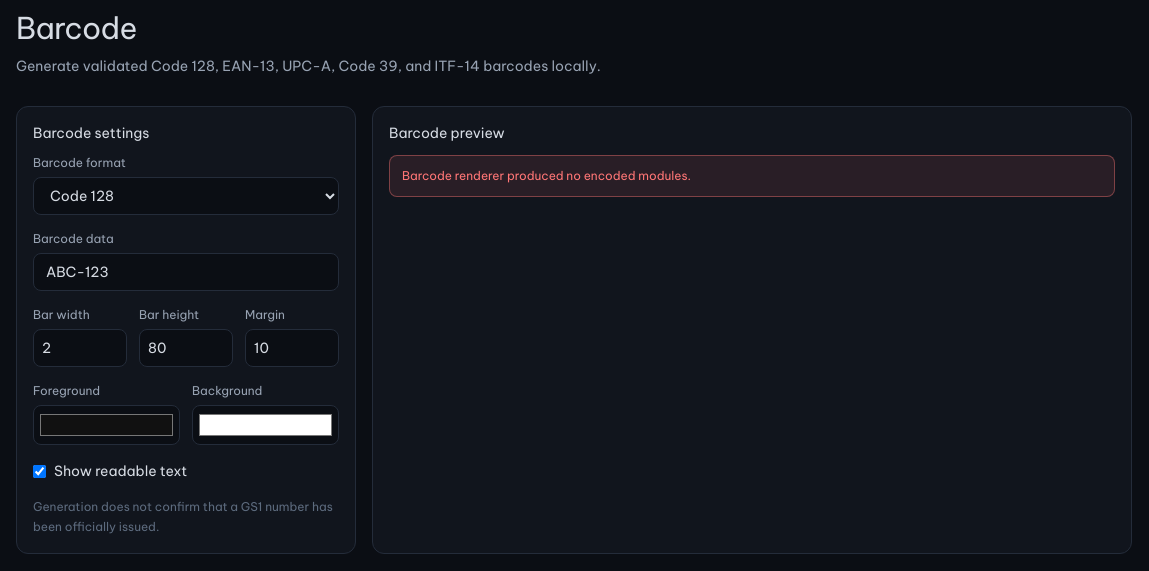
Test: Barcode tool › switches formats and announces invalid check digits
This screenshot has width=1149, height=571.
Select "EAN-13" in the dropdown labelled "Barcode format" at (186, 196), box [33, 177, 339, 215]
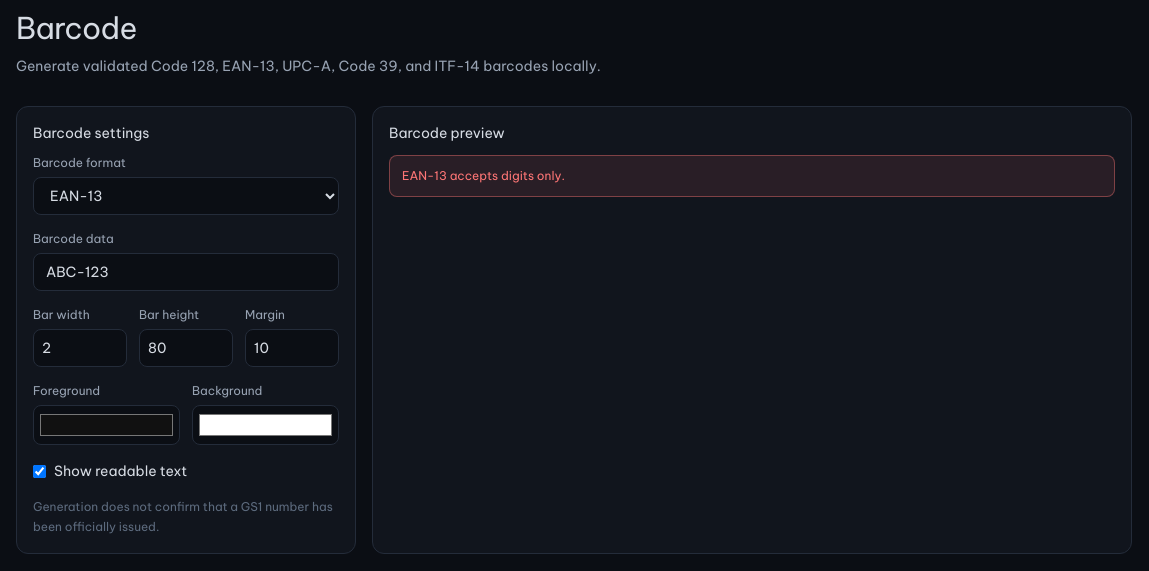
Replace the text in the field labelled "Barcode data" with "5901234123458" at (186, 272), box [33, 253, 339, 291]
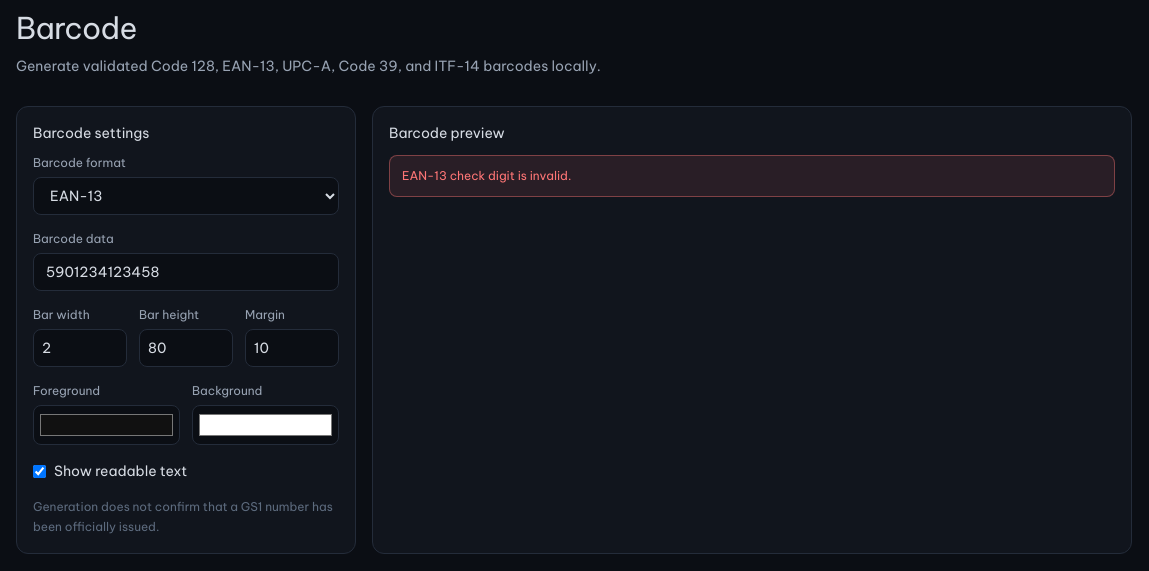
Expected: the message shows "check digit", [402, 168, 571, 183]
